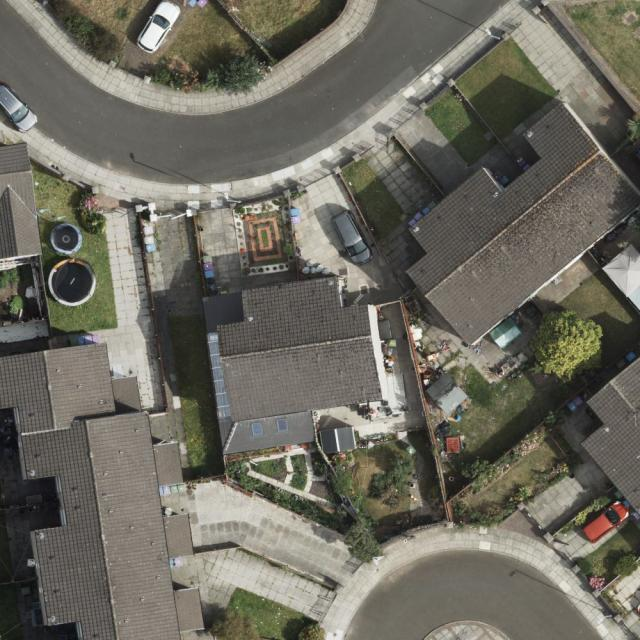roof: (0, 342, 204, 640), (408, 101, 640, 344), (204, 276, 383, 456), (582, 355, 640, 521), (0, 143, 42, 259)
skylight: (205, 330, 233, 421), (250, 420, 266, 439), (277, 418, 288, 433)
